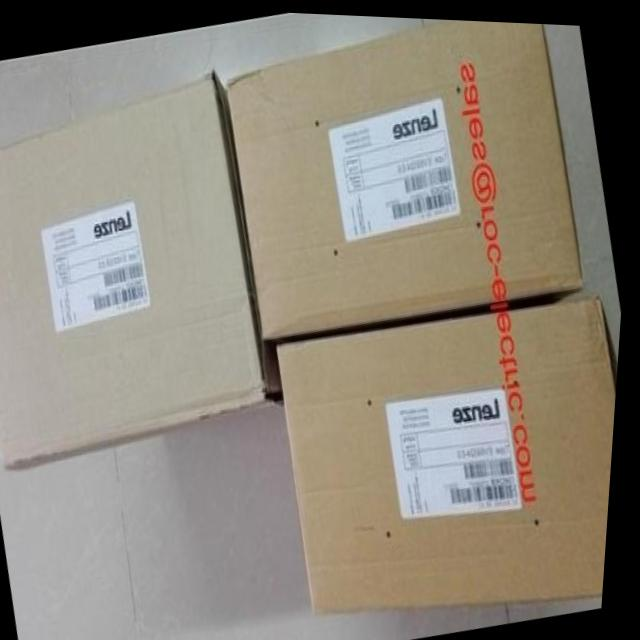box: (0, 68, 290, 472), (228, 16, 586, 337), (280, 291, 623, 610)
